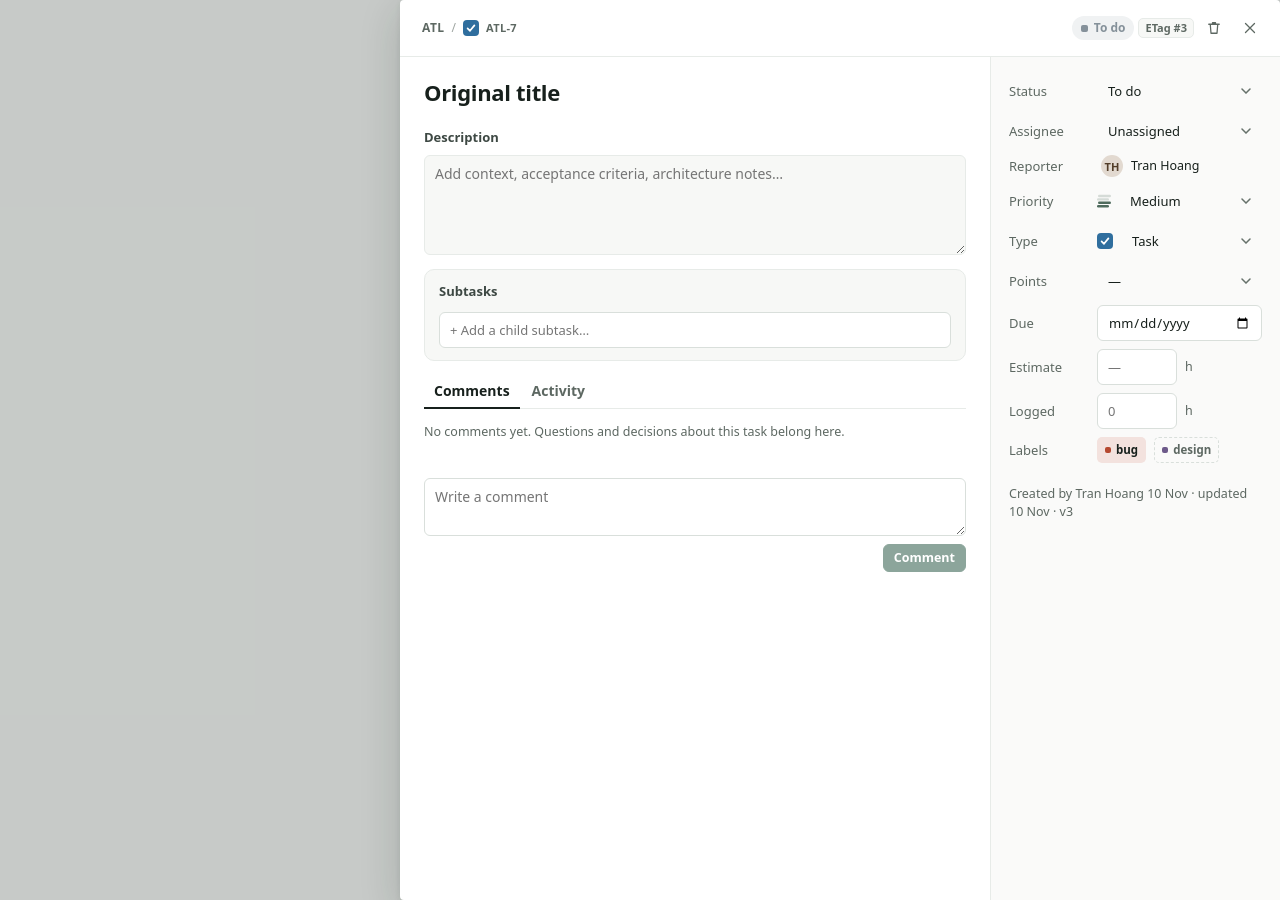
Test: TaskDrawer › posts a comment and refreshes the thread
Type "Reproduced on staging" into the text box labelled "Write a comment".
click(695, 507); type("Reproduced on staging")  # box x1=424 y1=478 x2=966 y2=536
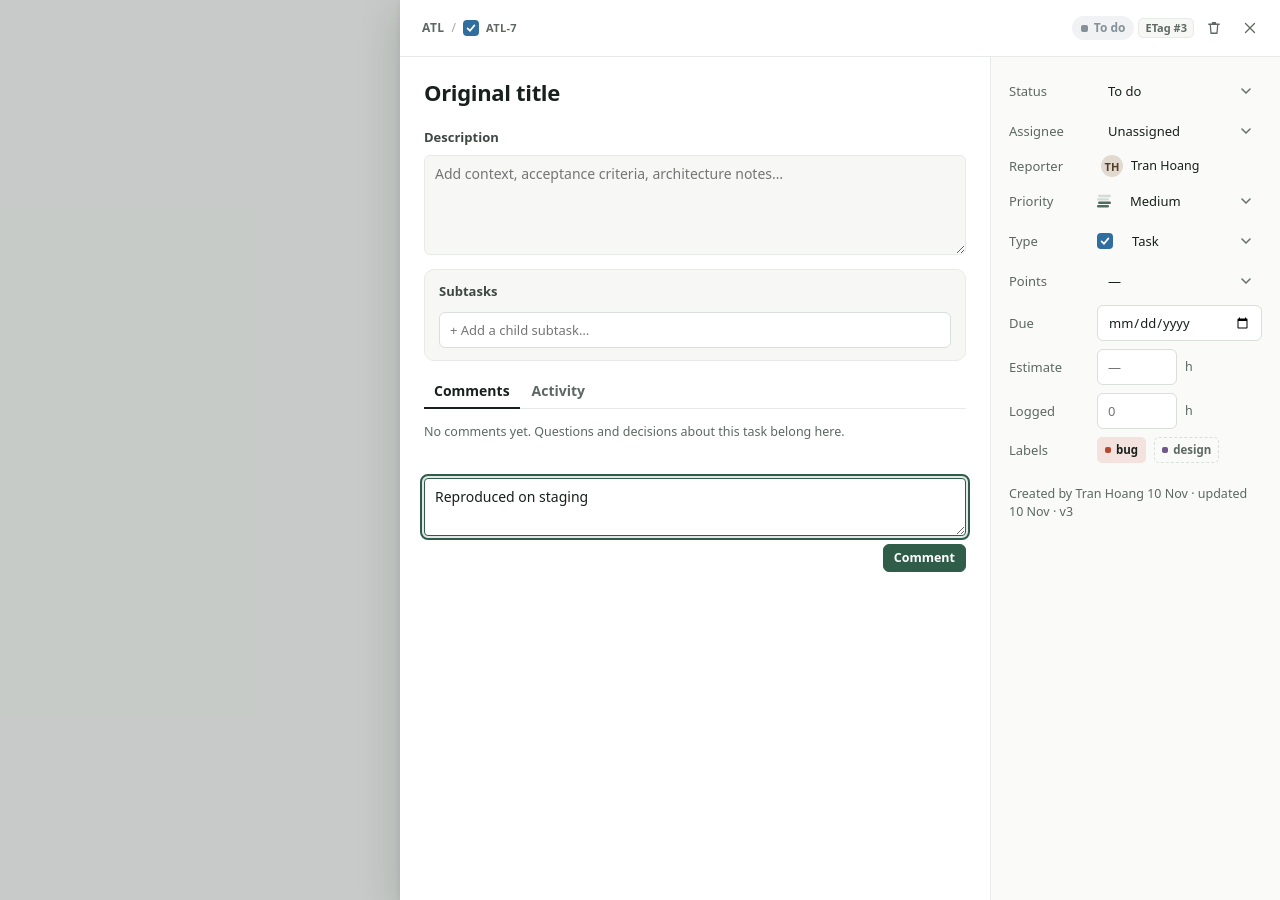
Click the button "Comment".
click(924, 558)  # box x1=883 y1=544 x2=966 y2=572
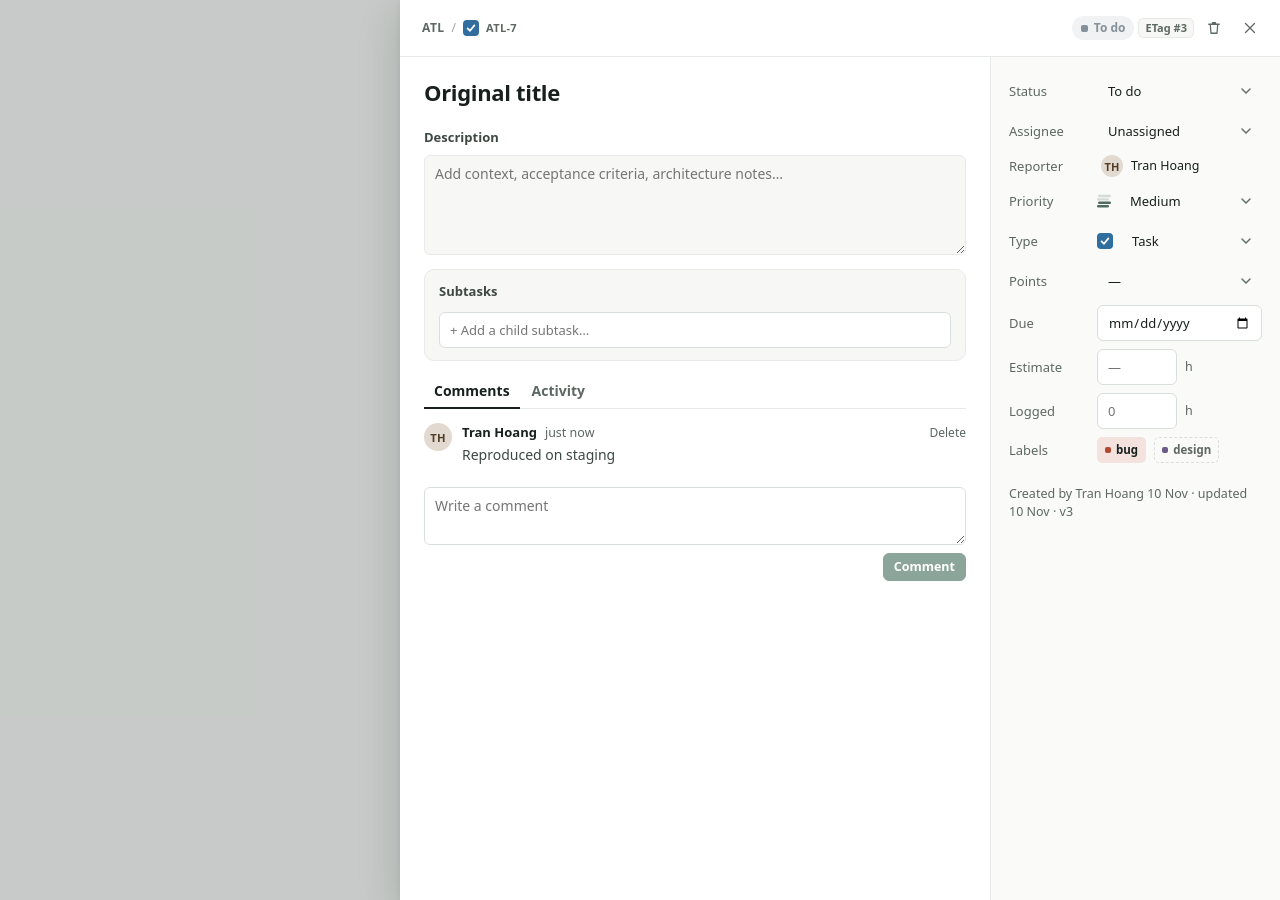
Now the text "Reproduced on staging" is shown, box x1=462 y1=445 x2=615 y2=464
